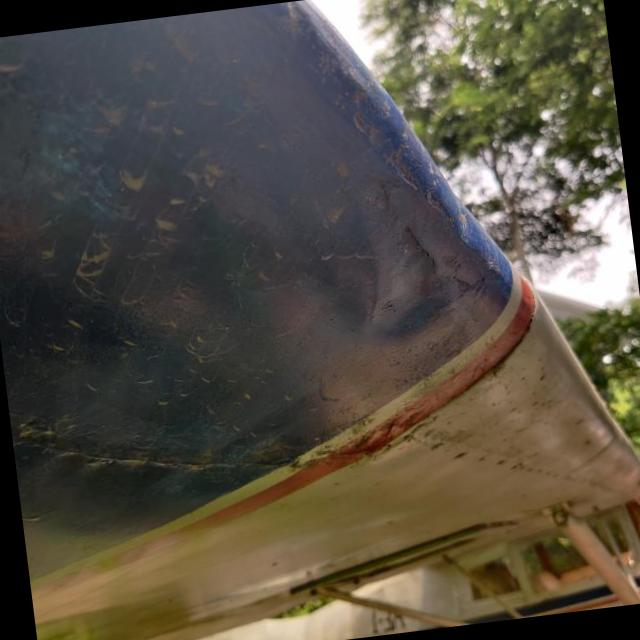Dent: (265, 145, 494, 405)
